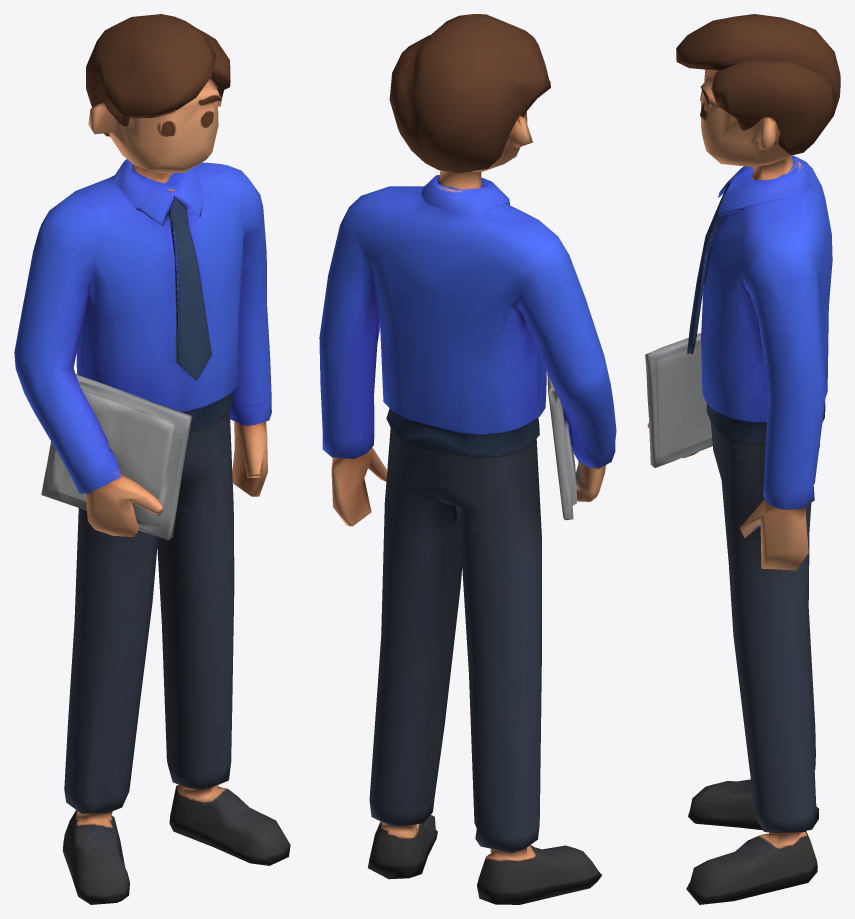
File: officeworker.glb
3 views of the same model, side by side, from view 1: azimuth 30°, elevation 25°; view 2: azimuth 150°, elevation 25°; view 3: azimuth 270°, elevation 25° (orthographic).
Parts seen in each view (by area): view 1: tripo_node_59f0d740-cf0e-46ed-8be4-f872f18b812e; view 2: tripo_node_59f0d740-cf0e-46ed-8be4-f872f18b812e; view 3: tripo_node_59f0d740-cf0e-46ed-8be4-f872f18b812e.
Boxes of the visible parts, bbox=[...] form: tripo_node_59f0d740-cf0e-46ed-8be4-f872f18b812e: bbox=[14, 14, 290, 904]; tripo_node_59f0d740-cf0e-46ed-8be4-f872f18b812e: bbox=[319, 14, 616, 904]; tripo_node_59f0d740-cf0e-46ed-8be4-f872f18b812e: bbox=[645, 14, 840, 904].
Bounding box in the file's own units: 0.32 × 0.9797 × 0.2072.
1 material, 1 textured.
